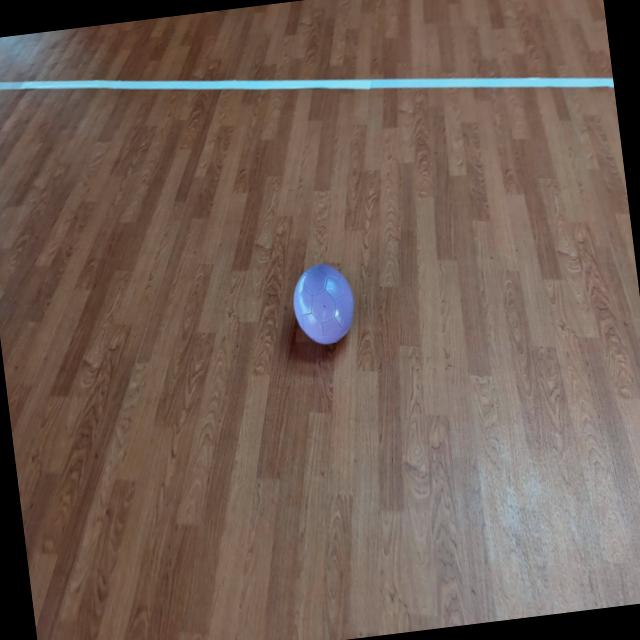purple_ball: (286, 256, 358, 348)
